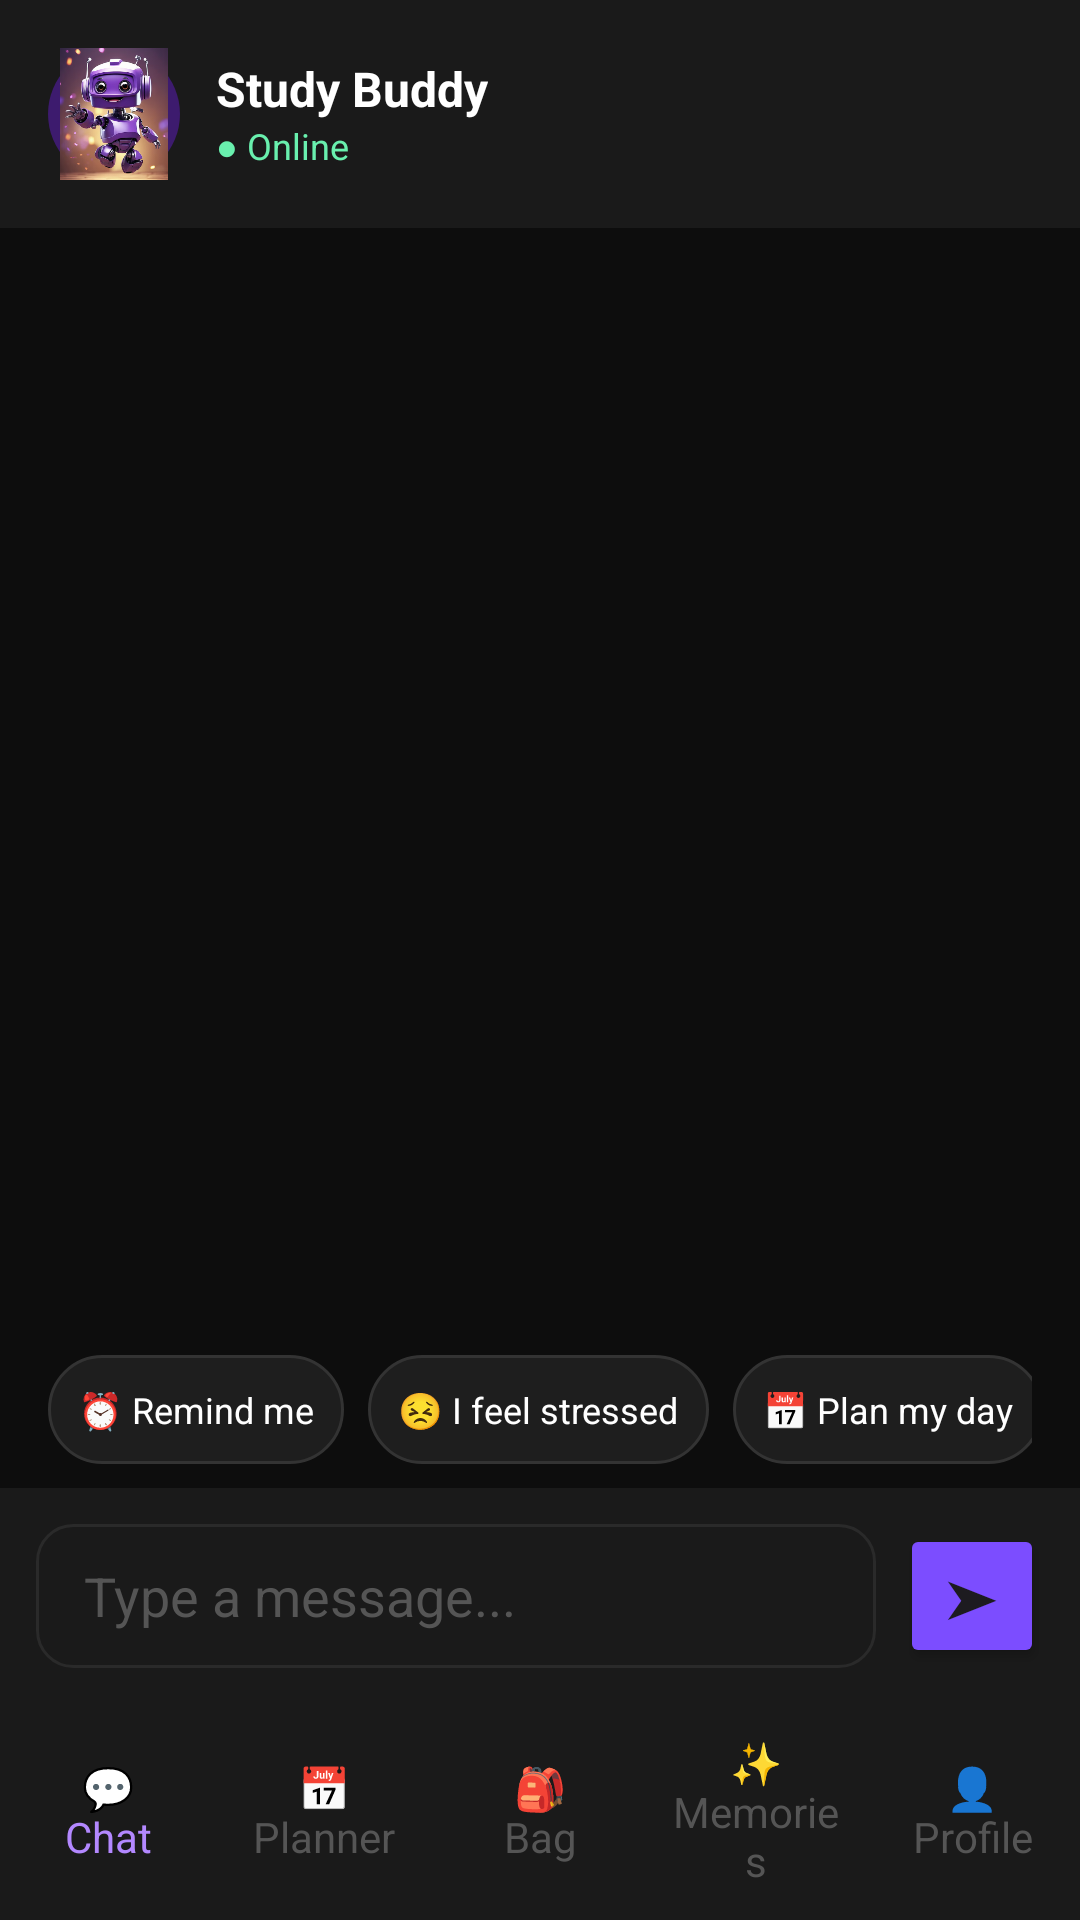

Icons on this 1080 × 1920 Android screen, each with its box as box=[x1, y1, x2, y2]:
robot: box=[48, 48, 180, 180]
